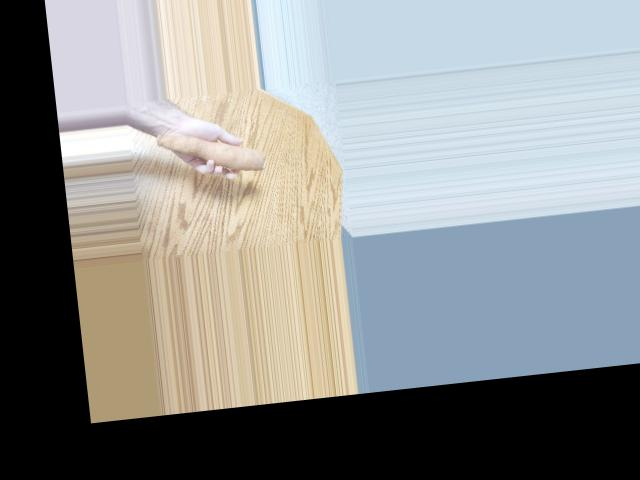sweet_potato: (157, 120, 266, 183)
